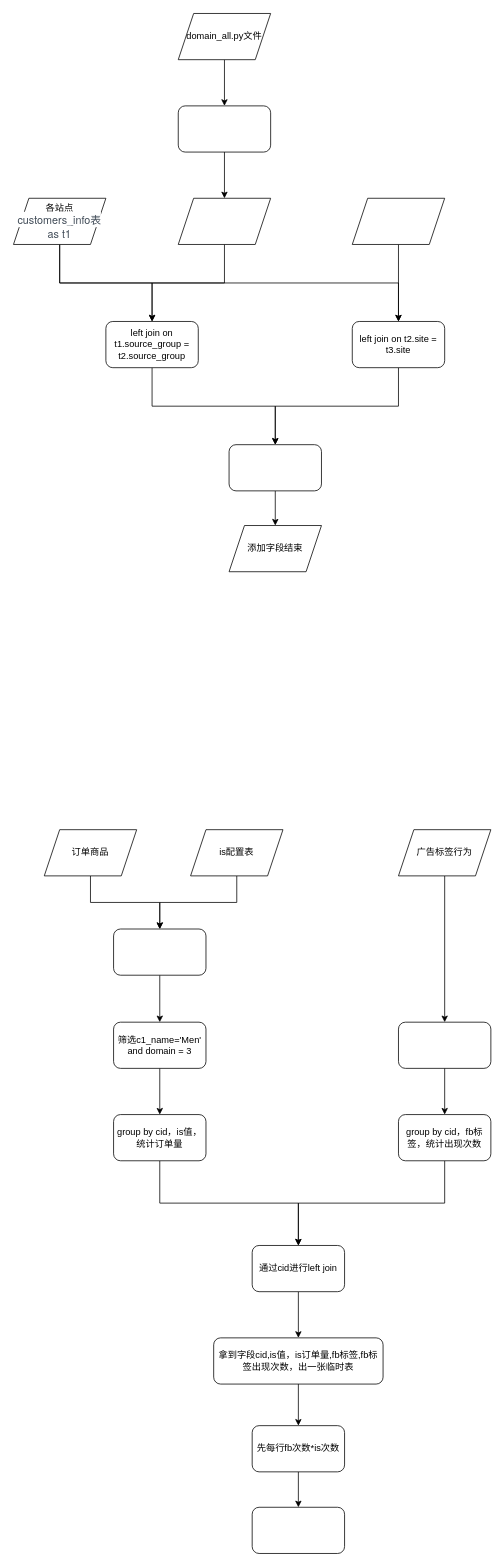
Some shapes in this 504 by 1567 pixel diagram are drawn without their labels. The box of each missing label's shape, as (x1, y1, x2, y2) in pixels:
datacube.dc_domain_config as t3: (352, 198, 445, 244)
group by is值，fb标签，累加受众标签次数，最终结果表: (251, 1507, 345, 1553)
products_id，domain进行inner join拿到is值: (113, 928, 206, 975)
取出所有站点key为childs: (177, 105, 271, 152)
在pyspark上注册临时表df_source_group as t2: (177, 198, 271, 244)
筛选domain=3: (398, 1021, 491, 1068)
输出t1.*，t2.site, t3.app_name: (228, 444, 321, 491)
